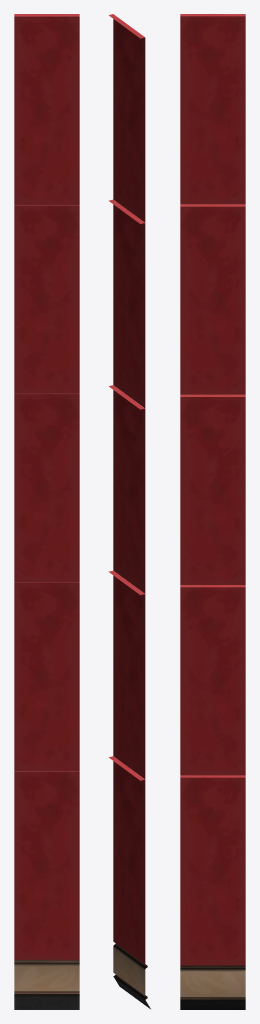
The model's file is em_wall_straight_minotaur_hallway.fbx.
3 renders of one model, left to right at view 1: azimuth 90°, elevation 25°; view 2: azimuth 210°, elevation 25°; view 3: azimuth 270°, elevation 25°, orthographic. The views are drawn at different scales.
Parts seen in each view (by area): view 1: group78_em_wall_hallway_straight1; view 2: group78_em_wall_hallway_straight1; view 3: group78_em_wall_hallway_straight1.
Boxes of the visible parts, x1,y1,x2,y2 form: group78_em_wall_hallway_straight1: (14, 14, 79, 1009); group78_em_wall_hallway_straight1: (108, 14, 150, 1009); group78_em_wall_hallway_straight1: (180, 14, 245, 1009).
Size of the model in its own units: 100 by 8400 by 500.
